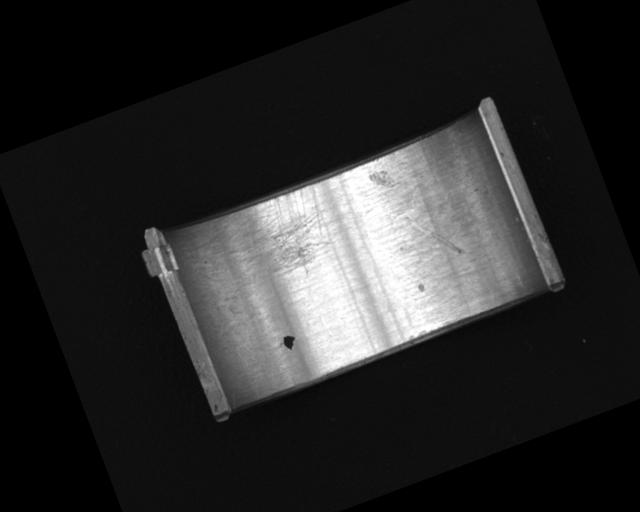blot: (280, 332, 299, 352)
bruise: (366, 164, 398, 194), (415, 281, 427, 295)
nick: (405, 200, 463, 267)
scratch: (196, 182, 343, 306)
